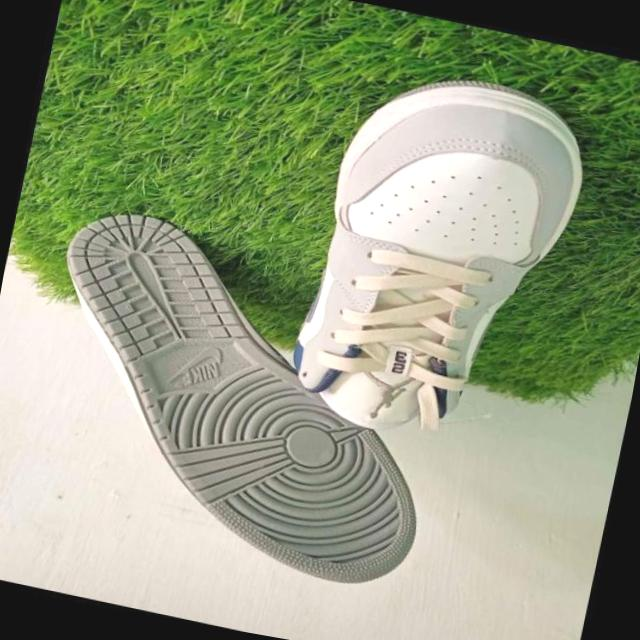nike_fake_jordan: (268, 53, 598, 464)
